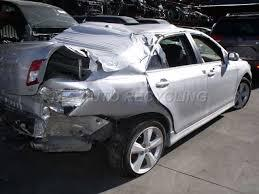boot-dent: (20, 26, 114, 81)
rear-bumper-dent: (1, 89, 79, 141)
